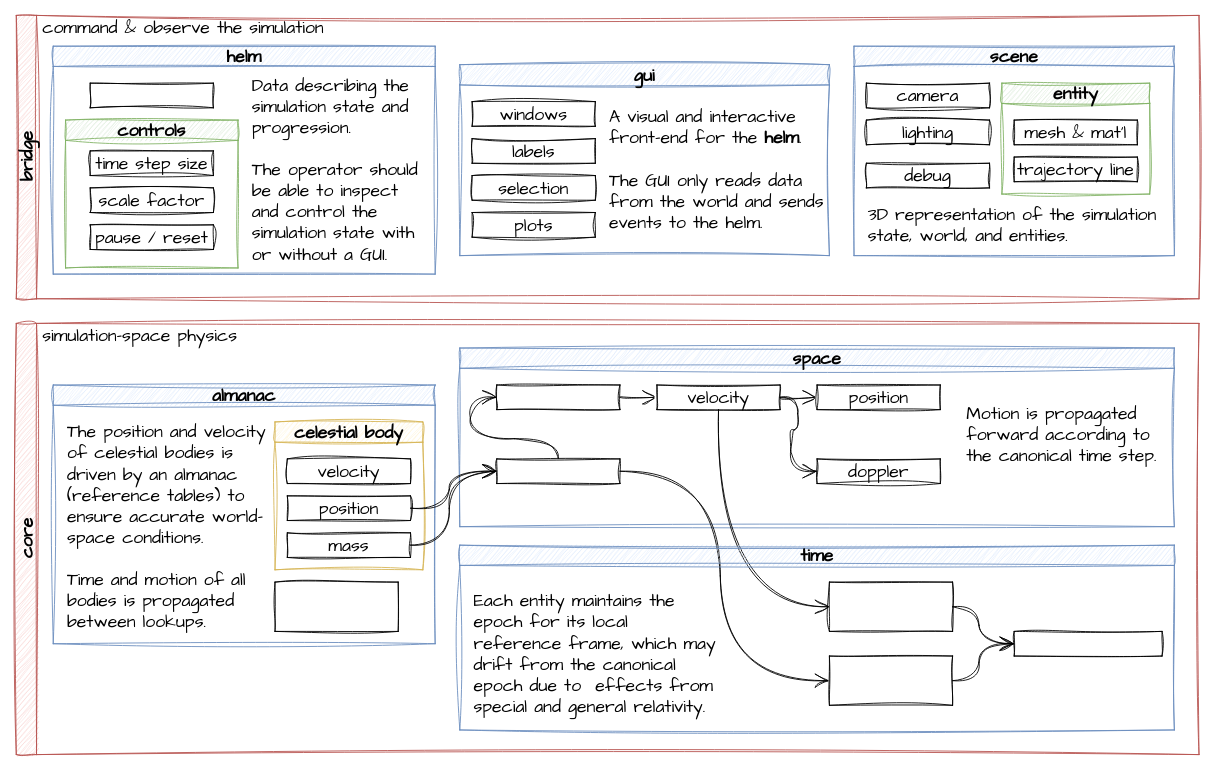
Image size: 1214x770. Some labels were removed from this diagram. Each missing label, with the centre of its shape:
acceleration: (558,397)
canonical epoch: (336,606)
gravitational time dilation: (891,680)
info & stats: (151,95)
kinematic time dilation: (891,606)
local time step: (1087,643)
potential field: (558,471)
